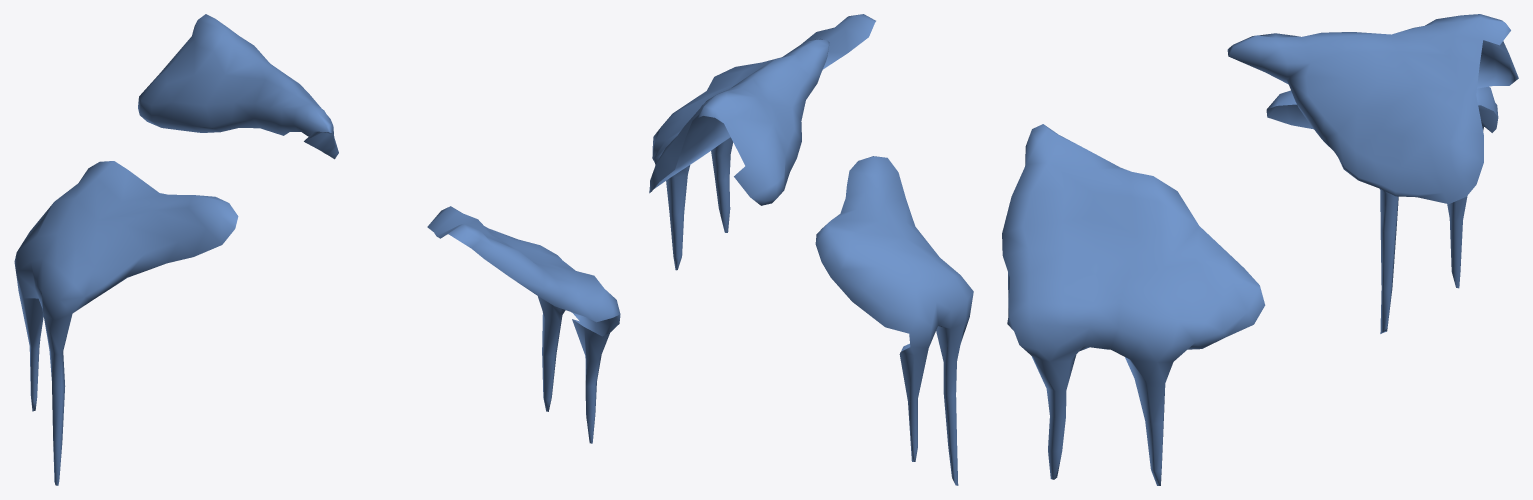
Rendered from snow_roof 1.fbx.
The picture shows the model from 3 angles, left to right: view 1: azimuth 30°, elevation 25°; view 2: azimuth 150°, elevation 25°; view 3: azimuth 270°, elevation 25°; orthographic projection. The views are drawn at different scales.
Visible parts, largest first — view 1: snow_1_low; view 2: snow_1_low; view 3: snow_1_low.
Part boxes in pixels (x1,y1,x2,y2): snow_1_low: (14,14,620,485); snow_1_low: (649,14,973,485); snow_1_low: (1002,14,1518,485).
Size of the model in its own units: 631 by 551 by 607.
